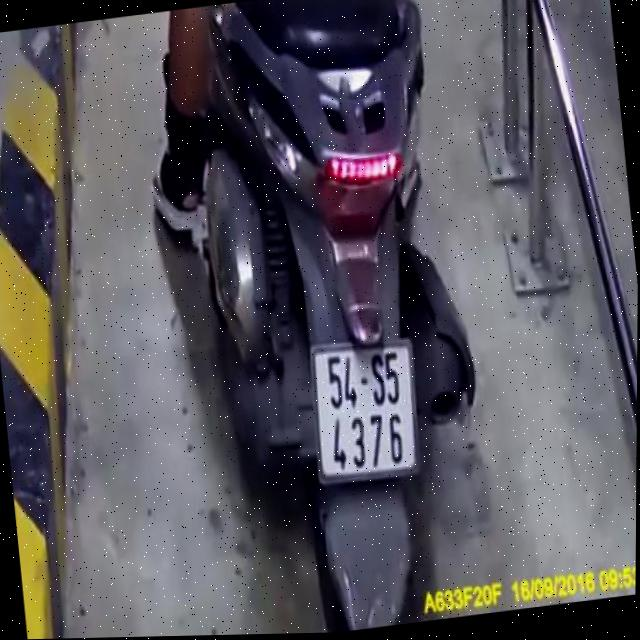motorcycle: (158, 0, 508, 636)
plate: (298, 332, 423, 486)
